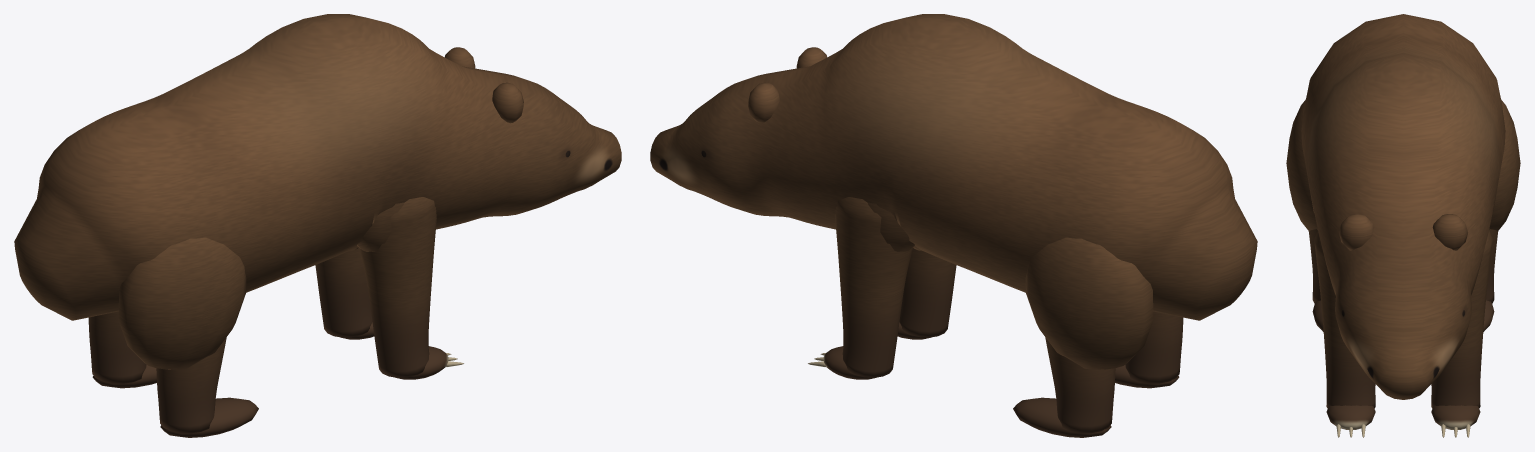
Rendered from bear.glb.
The picture shows the model from 3 angles, left to right: view 1: azimuth 30°, elevation 25°; view 2: azimuth 150°, elevation 25°; view 3: azimuth 270°, elevation 25°; orthographic projection. The views are drawn at different scales.
Parts seen in each view (by area): view 1: bear; view 2: bear; view 3: bear.
Boxes of the visible parts, box(x1,y1,x2,y2) form: bear: box(14, 14, 621, 437); bear: box(650, 14, 1257, 437); bear: box(1286, 14, 1520, 437).
Size of the model in its own units: 1.97 by 1.1 by 0.7062.
Materials: 1 (1 with a texture image).
